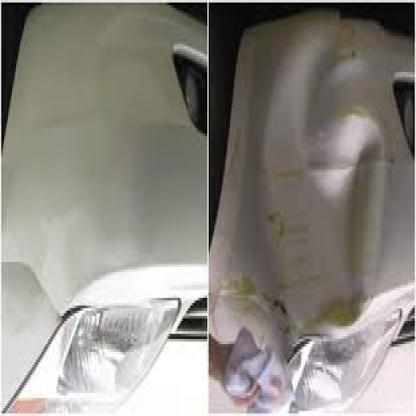dent: (238, 40, 388, 336)
